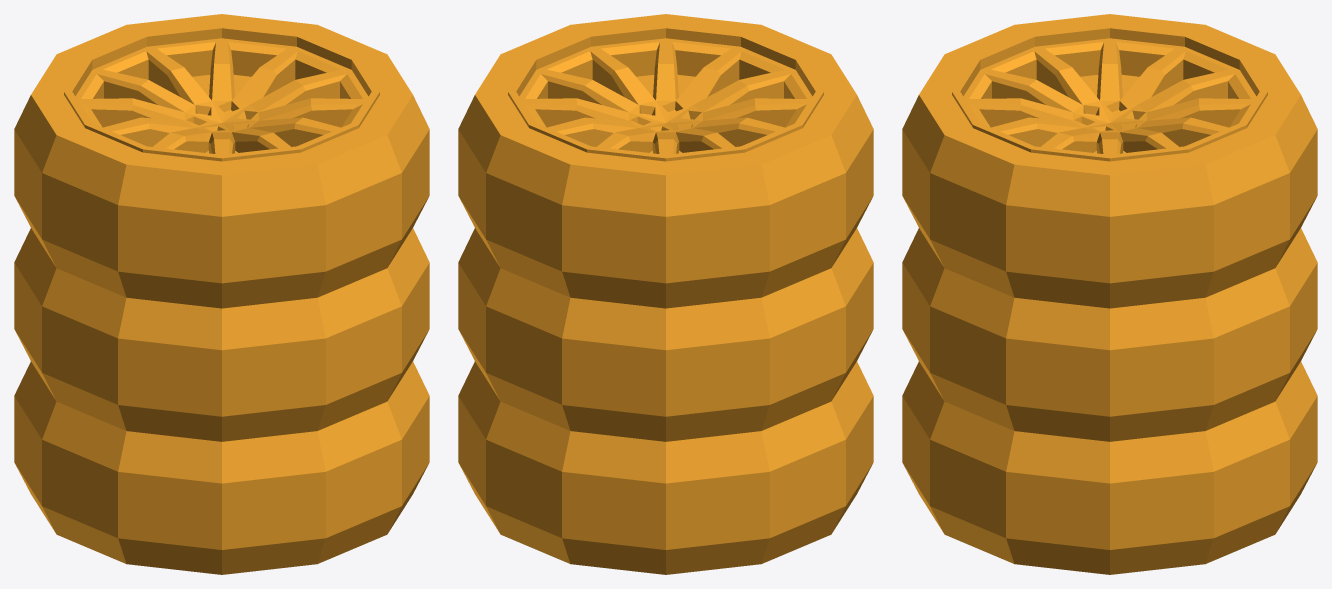
Rendered from SM_Wheel_Stack_GTE.fbx.
The picture shows the model from 3 angles, left to right: view 1: azimuth 30°, elevation 25°; view 2: azimuth 150°, elevation 25°; view 3: azimuth 270°, elevation 25°; orthographic projection.
Visible parts, largest first — view 1: SM_Wheel_Stack_GTE; view 2: SM_Wheel_Stack_GTE; view 3: SM_Wheel_Stack_GTE.
Part boxes in pixels (bbox=[...]): SM_Wheel_Stack_GTE: bbox=[14, 14, 429, 574]; SM_Wheel_Stack_GTE: bbox=[458, 14, 873, 574]; SM_Wheel_Stack_GTE: bbox=[902, 14, 1317, 574].
Size of the model in its own units: 0.7867 by 0.8414 by 0.7867.
